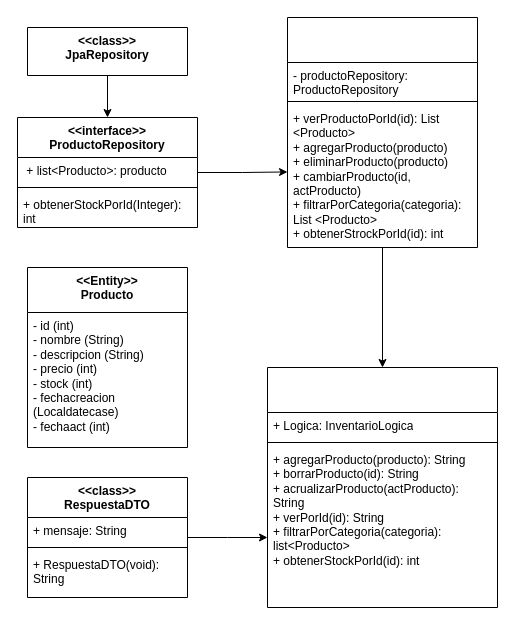
Image size: 515x628. Some labels were removed from this diagram. Here are the shapes that lost their labels. From the top down, the box of each, then its label:
(286, 16, 478, 248): <<Service>> InventarioLogica
(266, 366, 498, 608): <<Controller>> InventarioController
